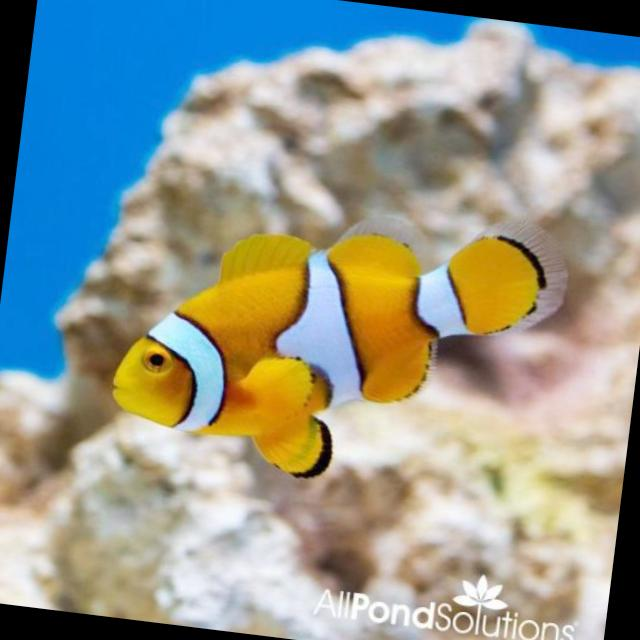ClownFish: (104, 180, 557, 502)
